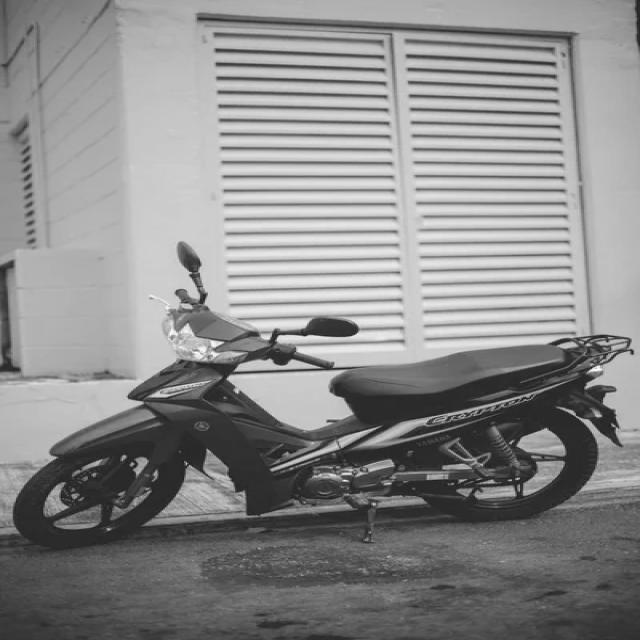Motorcycle: (14, 291, 632, 548)
